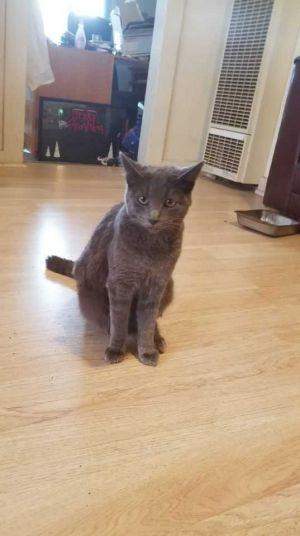rblue: (113, 143, 208, 249)
